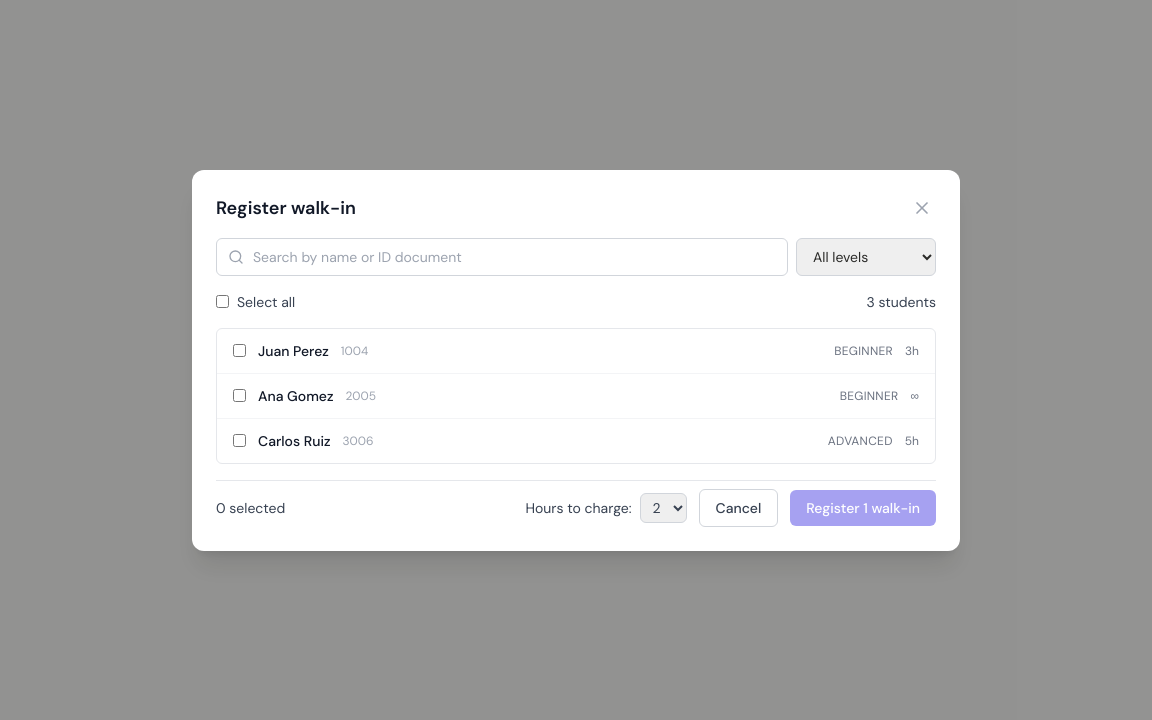
Test case: WalkInModal › toggles select-all only over visible filtered rows
Type "Perez" into the field with placeholder "Search by name or ID document" at (502, 256), box [216, 238, 788, 276]
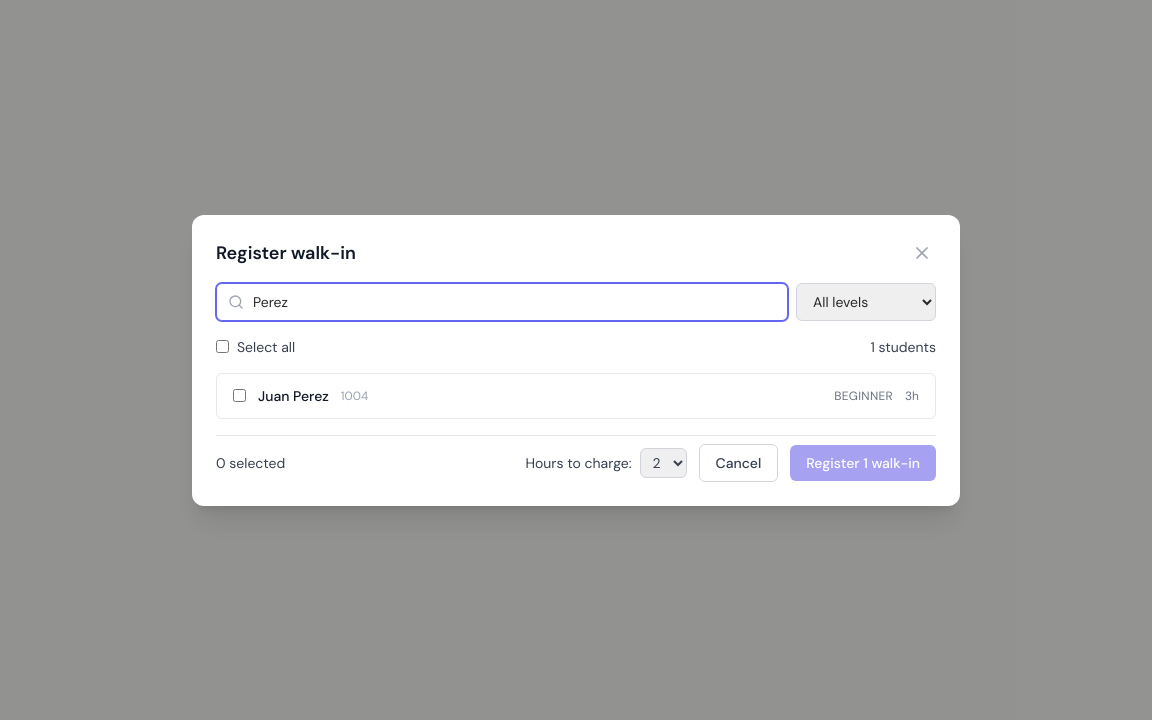
Click the checkbox labelled "Select all" at (222, 346), box [216, 340, 229, 353]
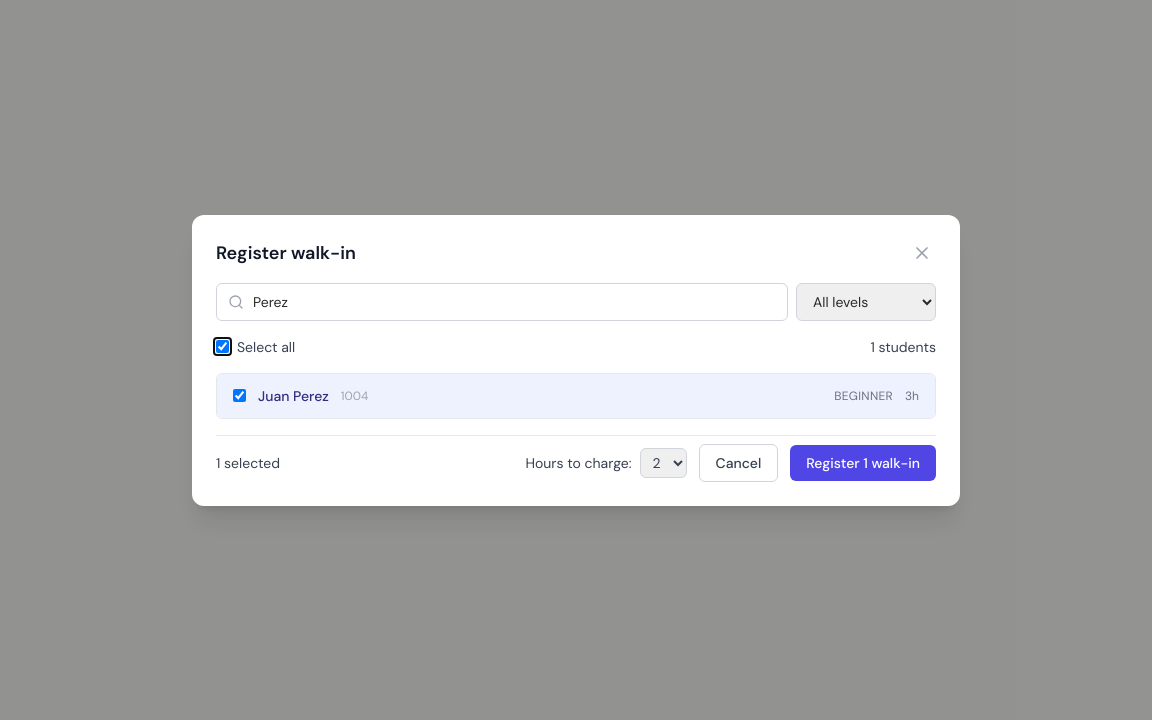
Now the text "1 selected" is shown, box [216, 452, 280, 472]
